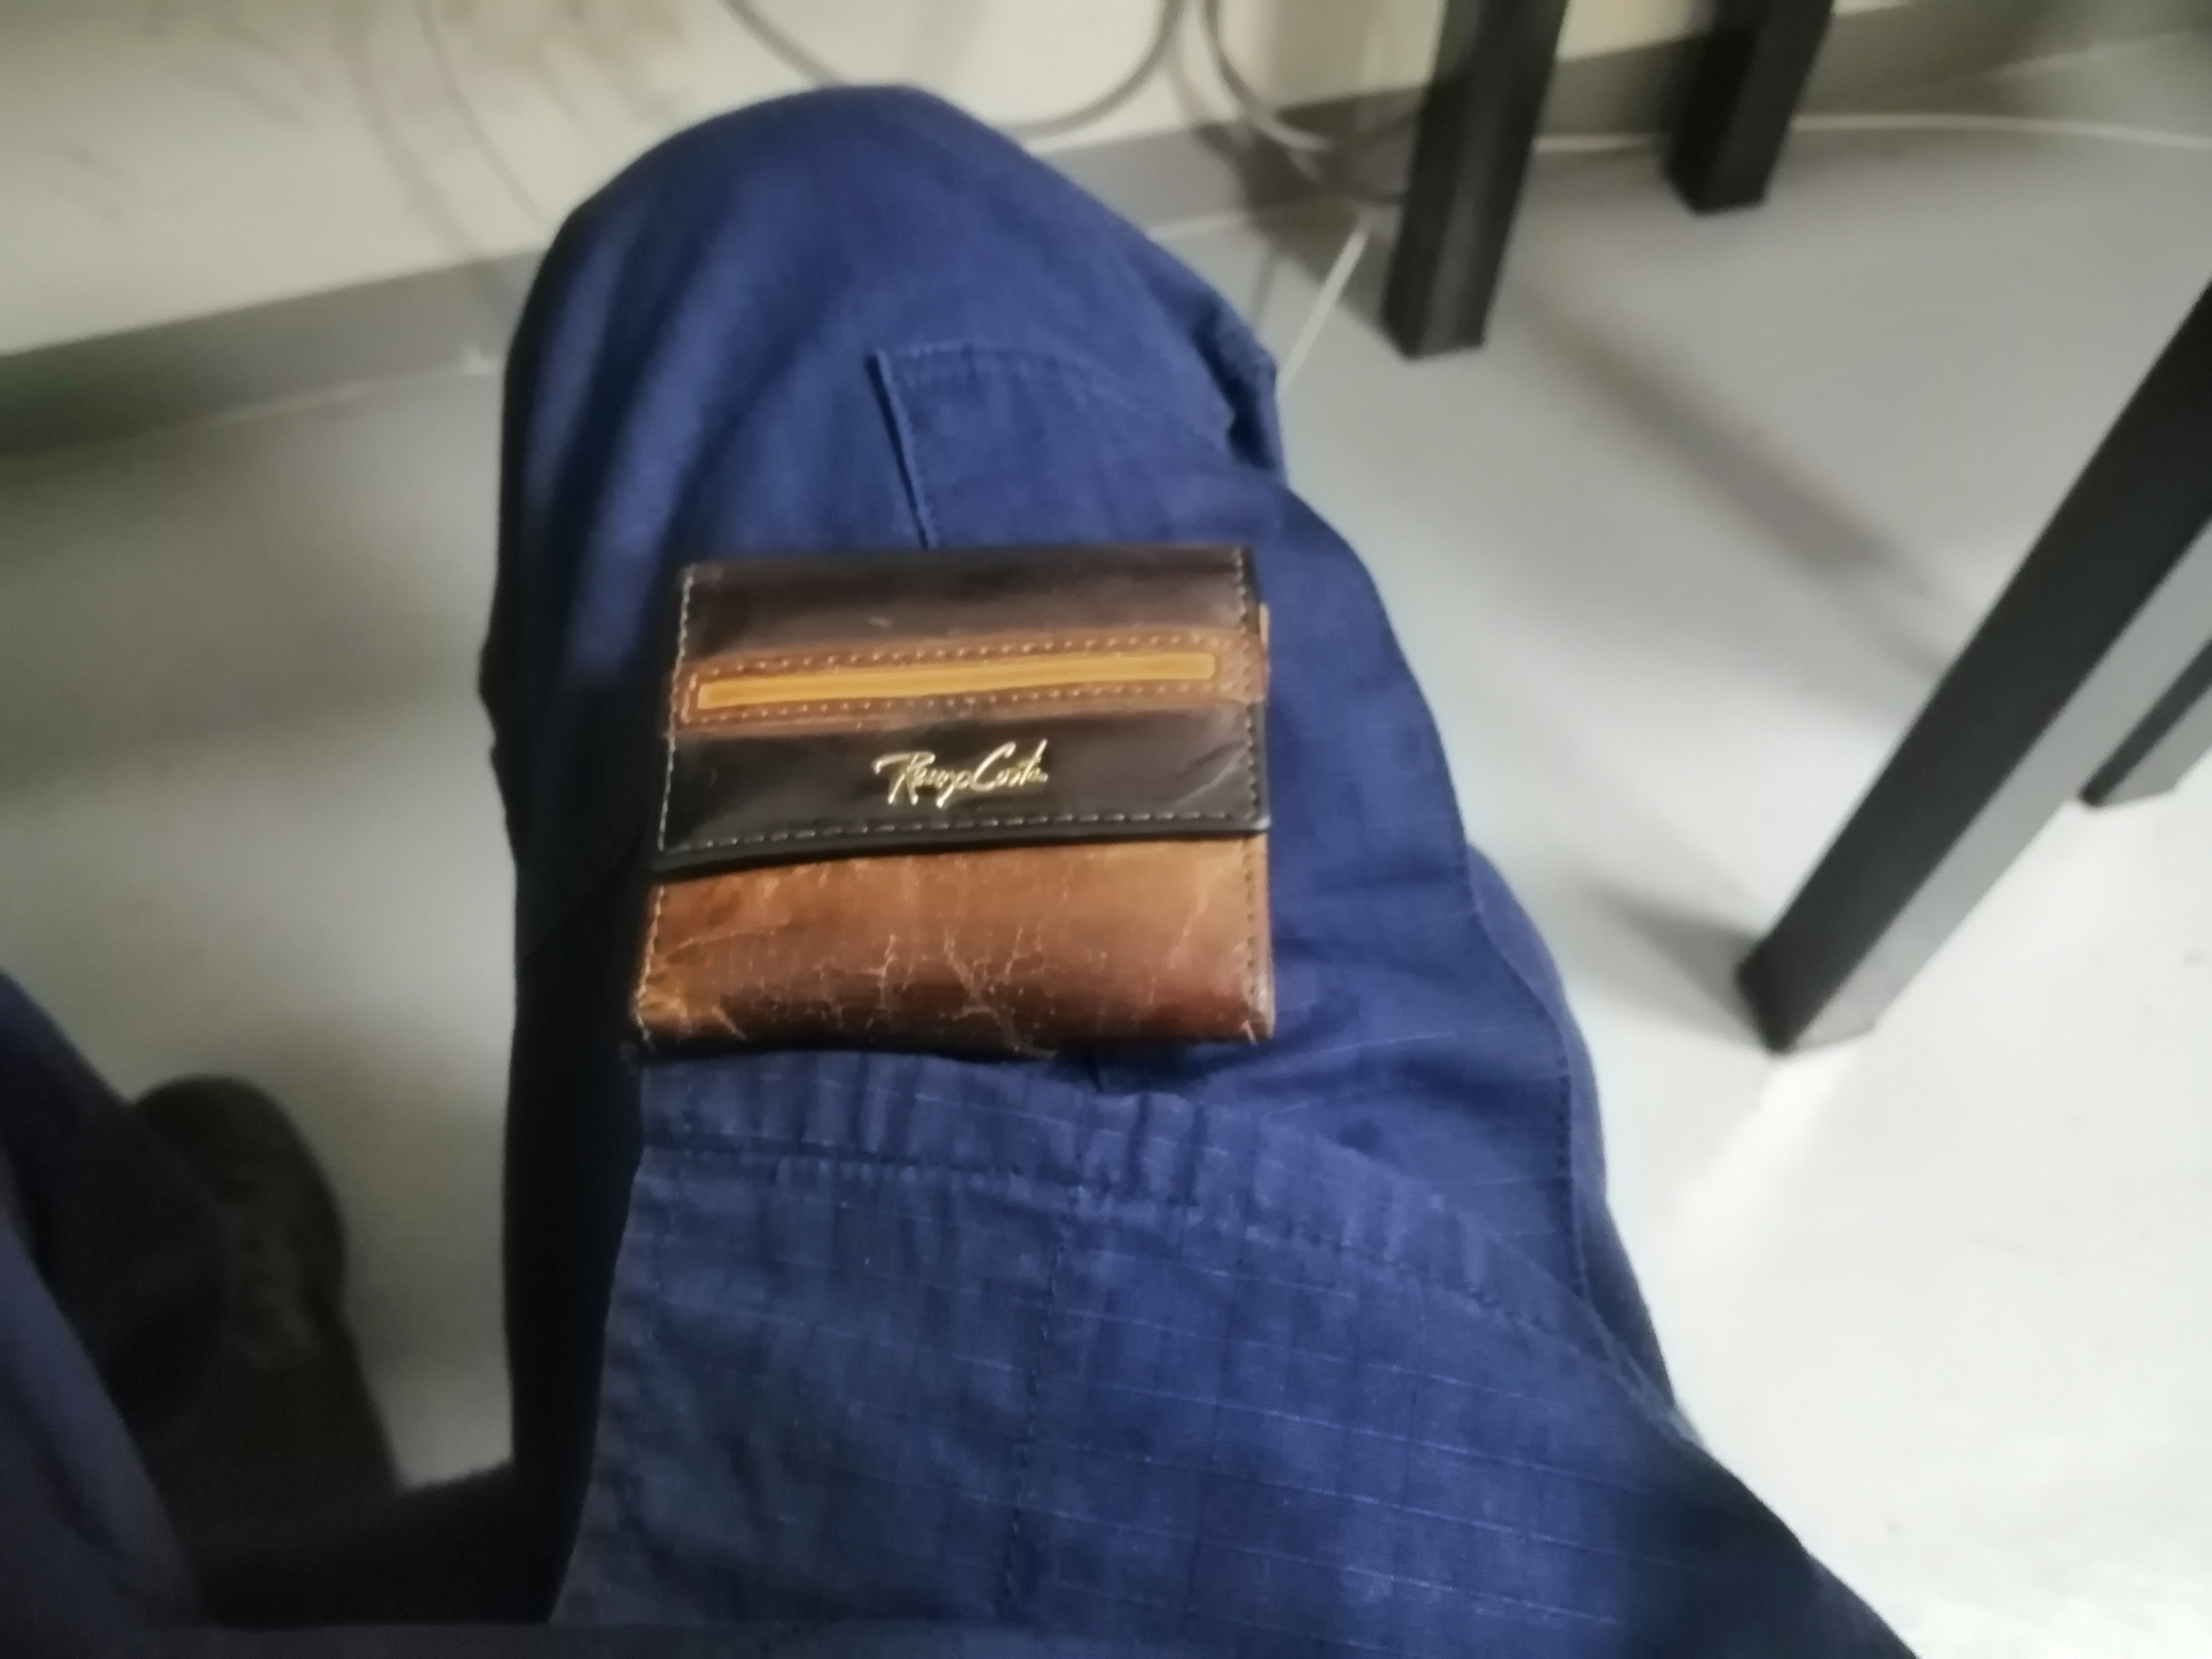monedero: (620, 532, 1320, 1082)
